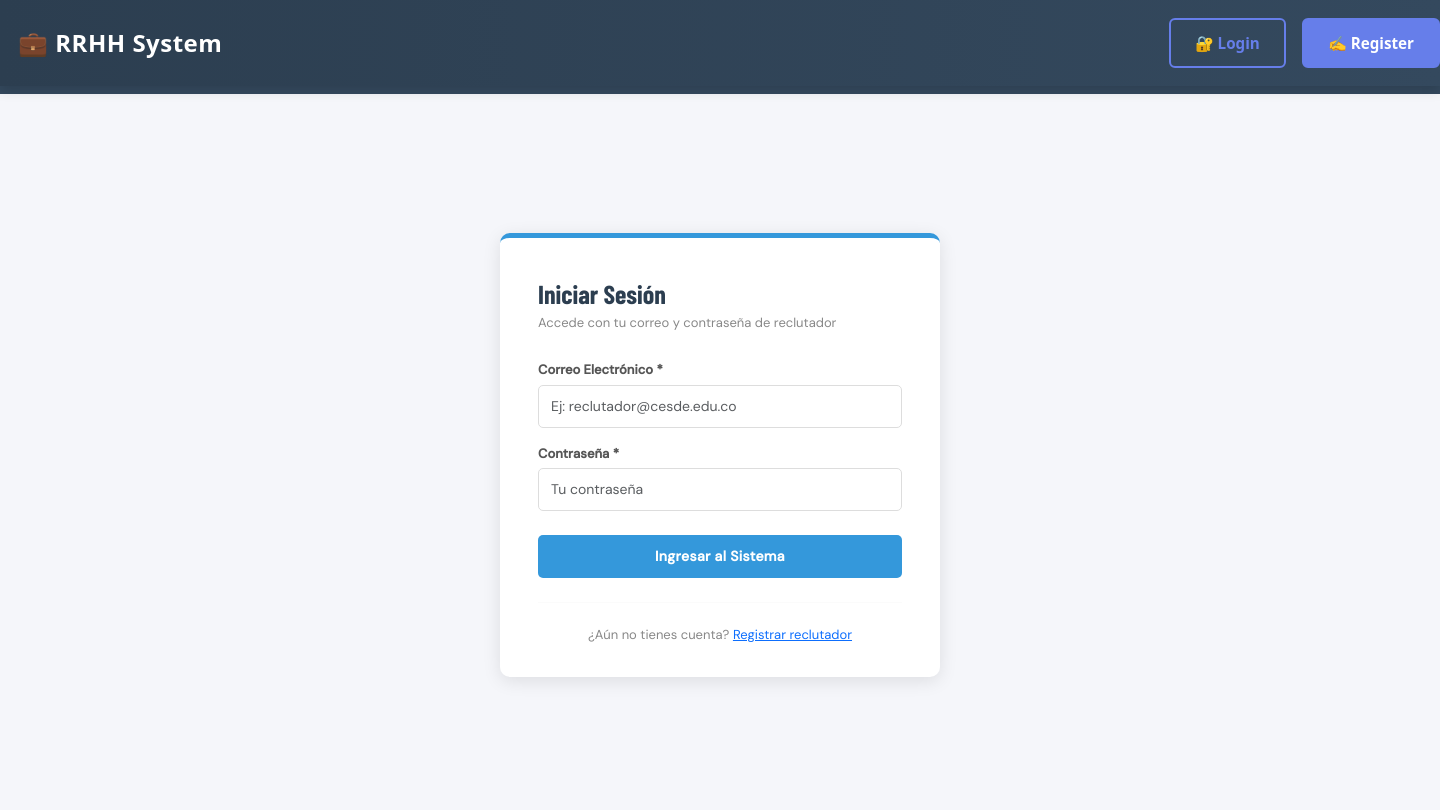
it: <LoginPage /> › muestra error si se envía el formulario vacío
Click the button "Ingresar al Sistema" at [720, 557], box [538,535,902,578]
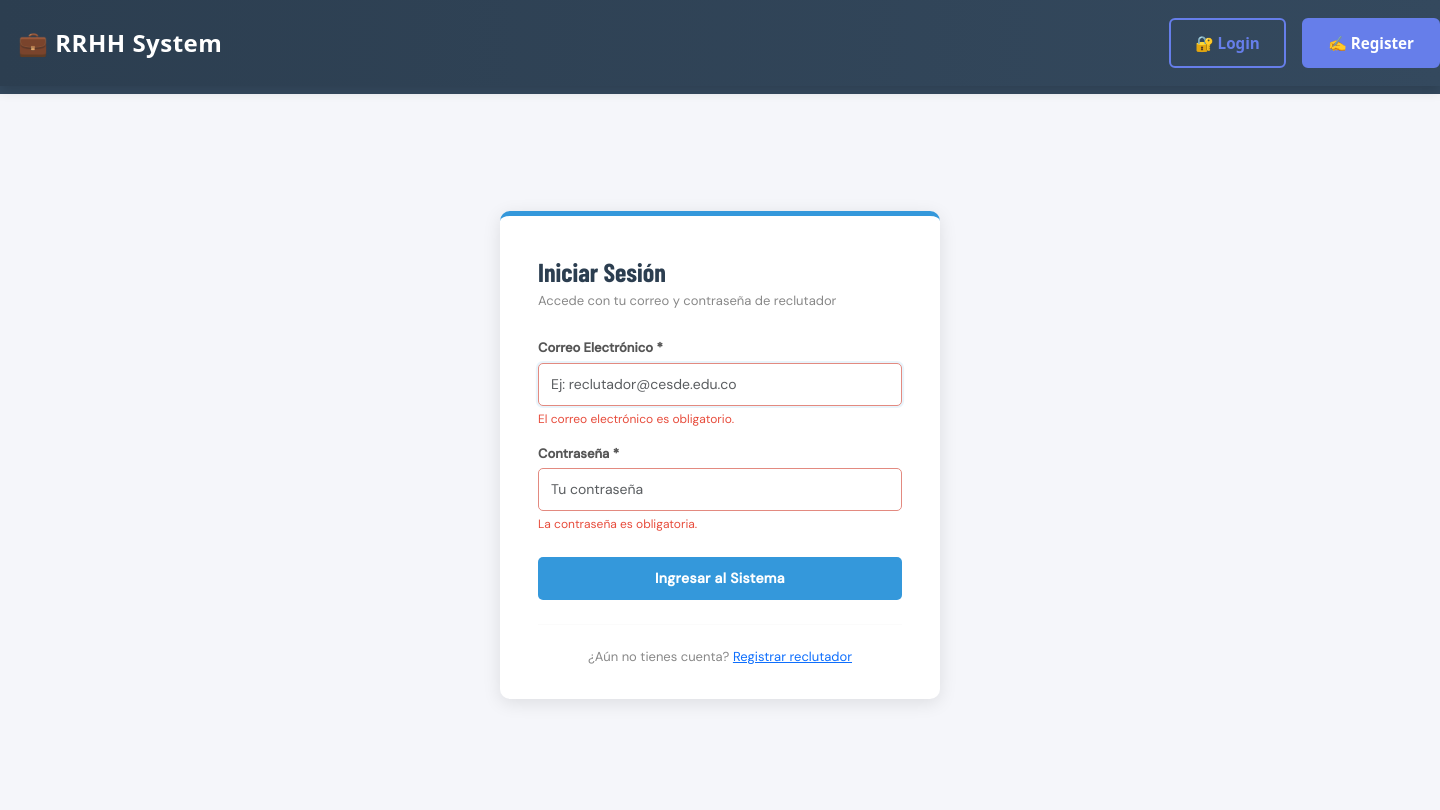
Result: the text "El correo electrónico es obligatorio." is shown at [538,411,734,427]
Result: the text "La contraseña es obligatoria." is shown at [538,516,697,532]
